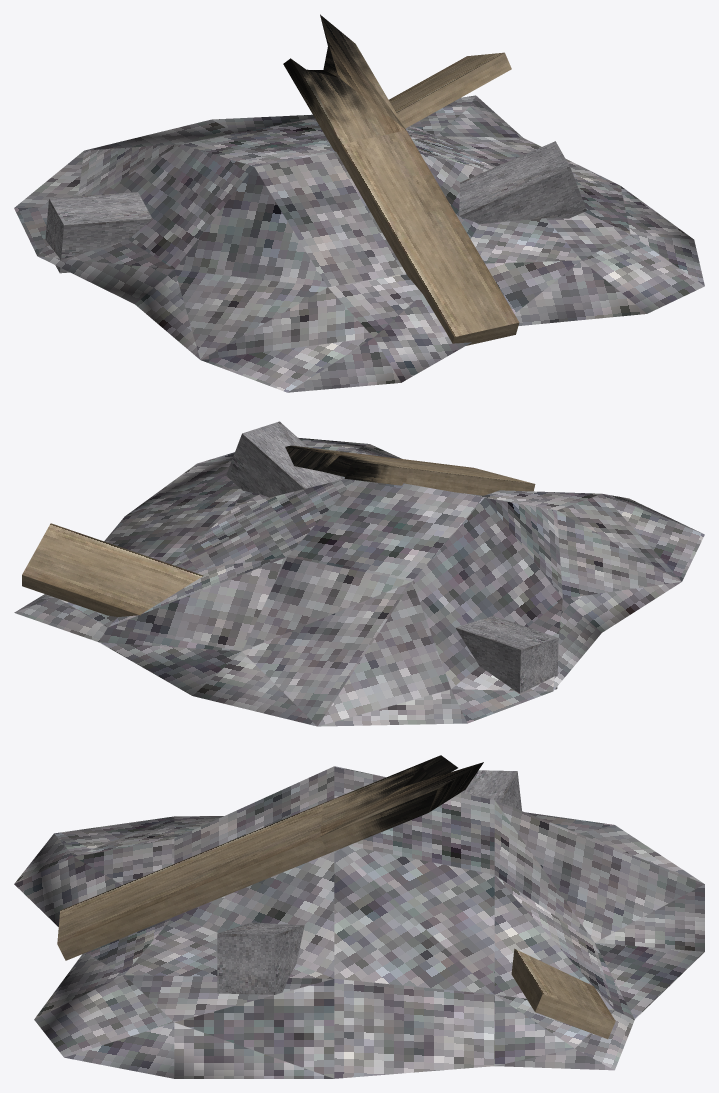
Rendered from Rubble.glb.
The picture shows the model from 3 angles, top to bottom: view 1: azimuth 30°, elevation 25°; view 2: azimuth 150°, elevation 25°; view 3: azimuth 270°, elevation 25°; orthographic projection. The views are drawn at different scales.
Visible parts, largest first — view 1: Rasmassa, mesh (×4); view 2: Rasmassa, mesh (×4); view 3: Rasmassa, mesh (×4).
Part boxes in pixels (x1=…): Rasmassa: x1=14, y1=95, x2=704, y2=392; mesh (×4): x1=45, y1=14, x2=586, y2=345; Rasmassa: x1=14, y1=437, x2=704, y2=726; mesh (×4): x1=22, y1=421, x2=558, y2=693; Rasmassa: x1=14, y1=766, x2=704, y2=1078; mesh (×4): x1=57, y1=755, x2=615, y2=1039.
Bounding box in the file's own units: 4 × 1.59 × 4.31.
4 materials, 4 textured.
